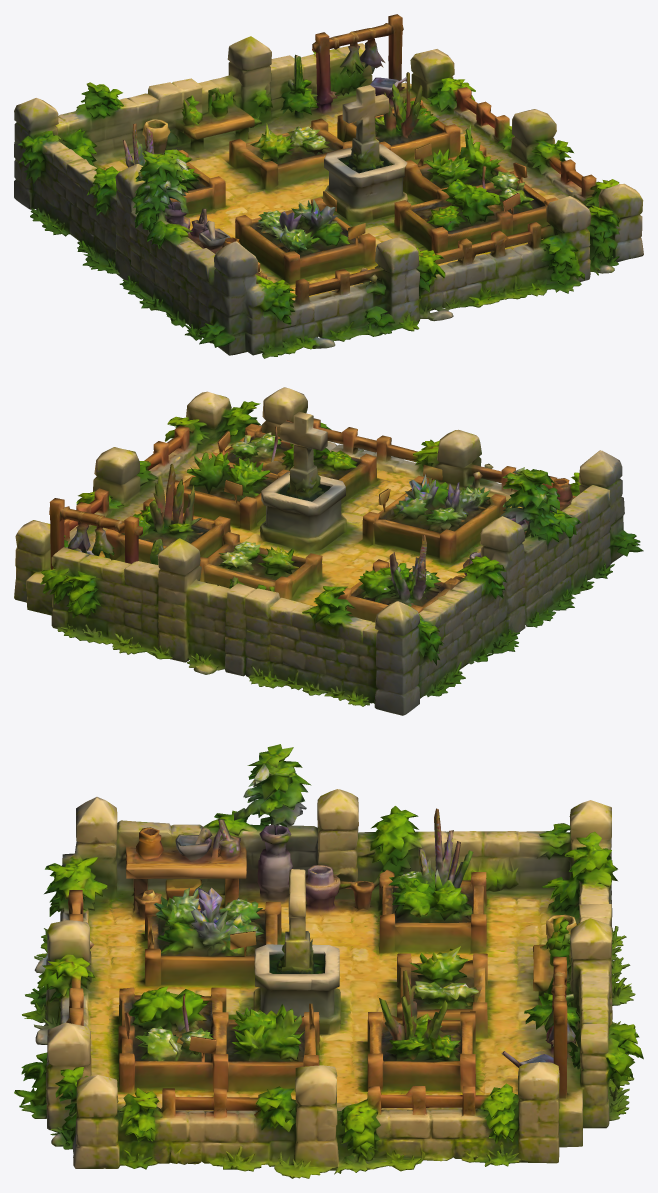
The model's file is isometric garden 3d model.glb.
3 renders of one model, top to bottom at view 1: azimuth 30°, elevation 25°; view 2: azimuth 150°, elevation 25°; view 3: azimuth 270°, elevation 25°, orthographic. The views are drawn at different scales.
Visible parts, largest first — view 1: tripo_node_11f66942-a8bc-45cf-95fd-3c33430cbaf8; view 2: tripo_node_11f66942-a8bc-45cf-95fd-3c33430cbaf8; view 3: tripo_node_11f66942-a8bc-45cf-95fd-3c33430cbaf8.
Boxes of the visible parts, left/top/right/bottom form: tripo_node_11f66942-a8bc-45cf-95fd-3c33430cbaf8: left=14, top=14, right=643, bottom=358; tripo_node_11f66942-a8bc-45cf-95fd-3c33430cbaf8: left=14, top=387, right=643, bottom=715; tripo_node_11f66942-a8bc-45cf-95fd-3c33430cbaf8: left=14, top=744, right=643, bottom=1178.
Bounding box in the file's own units: 1 × 0.3086 × 0.9572.
1 material, 1 textured.
